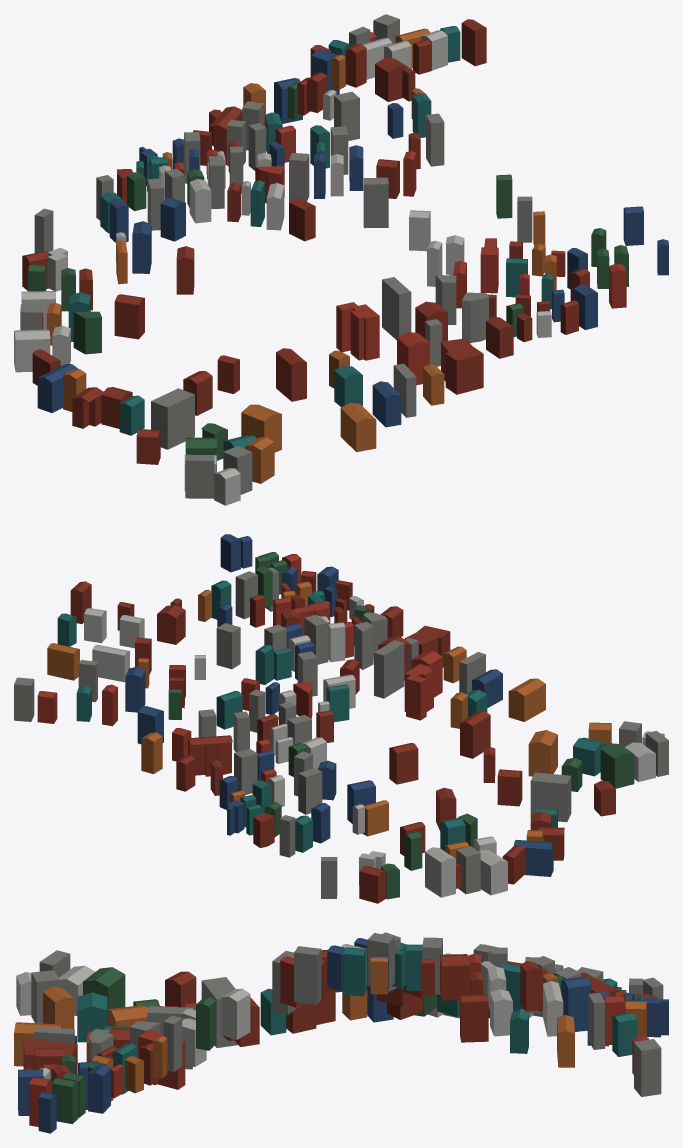
Rendered from near-17-109443-59464.50c9f0fe.glb.
The picture shows the model from 3 angles, top to bottom: view 1: azimuth 30°, elevation 25°; view 2: azimuth 150°, elevation 25°; view 3: azimuth 270°, elevation 25°; orthographic projection. The views are drawn at different scales.
Size of the model in its own units: 298 by 139 by 300.
